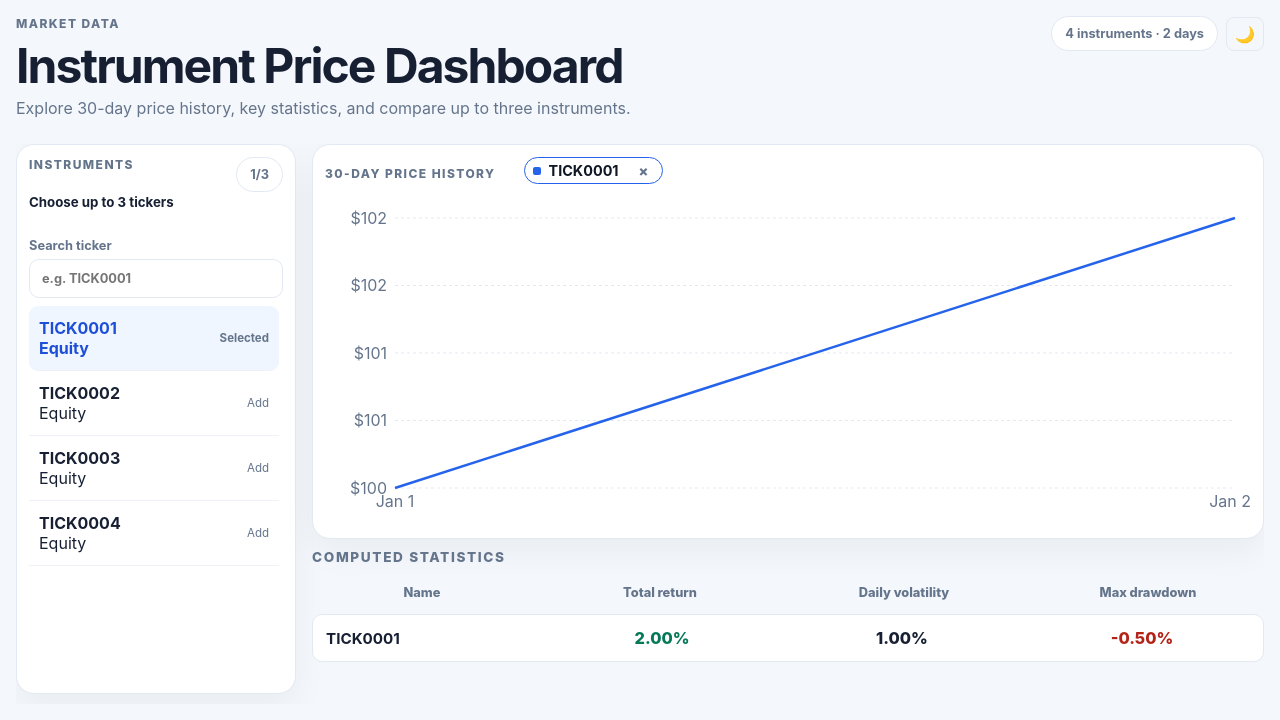
it: App › filters instruments case-insensitively and shows an empty state
The width and height of the screenshot is (1280, 720).
Check: the text "Choose up to 3 tickers" is shown, box [29,194,174,210]
Type "tick0002" into the field named "Search instruments".
click(156, 279); type("tick0002")  # box [29,259,283,298]
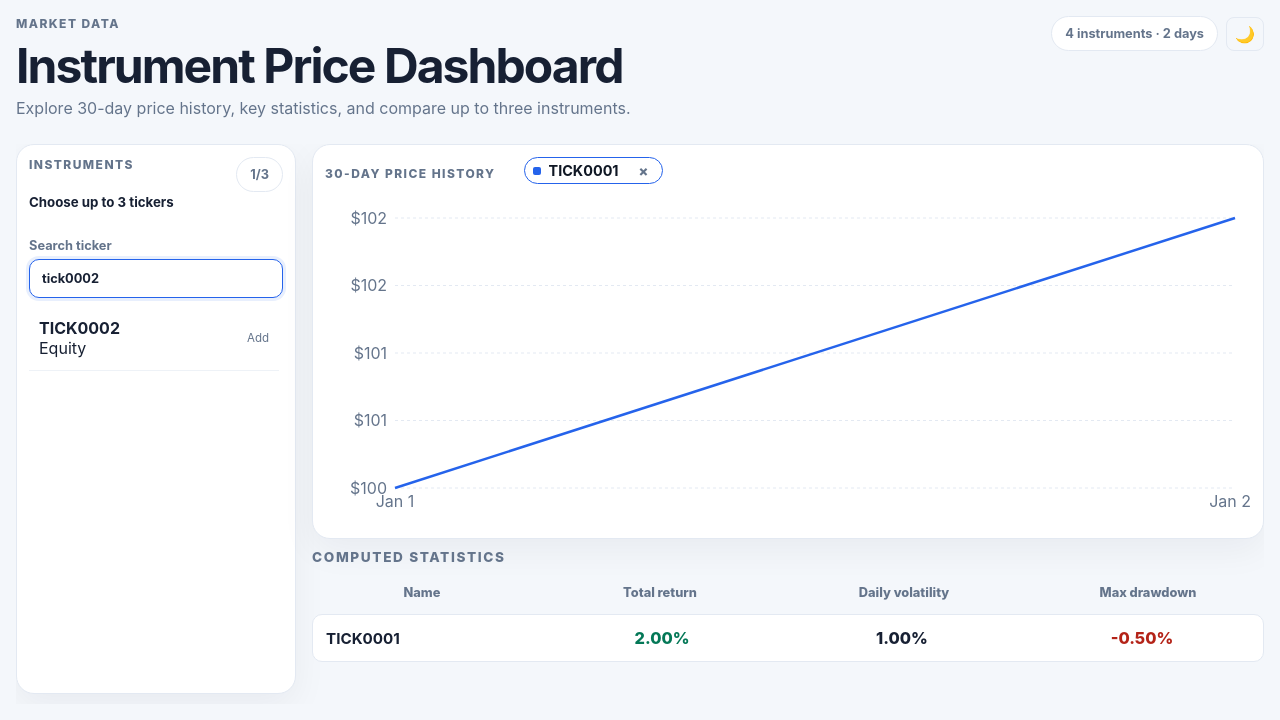
Check: the button "TICK0002 Equity Add" is shown, box [29,306,279,371]
Replace the text in the field named "Search instruments" with "missing" at point(156, 279), box [29,259,283,298]
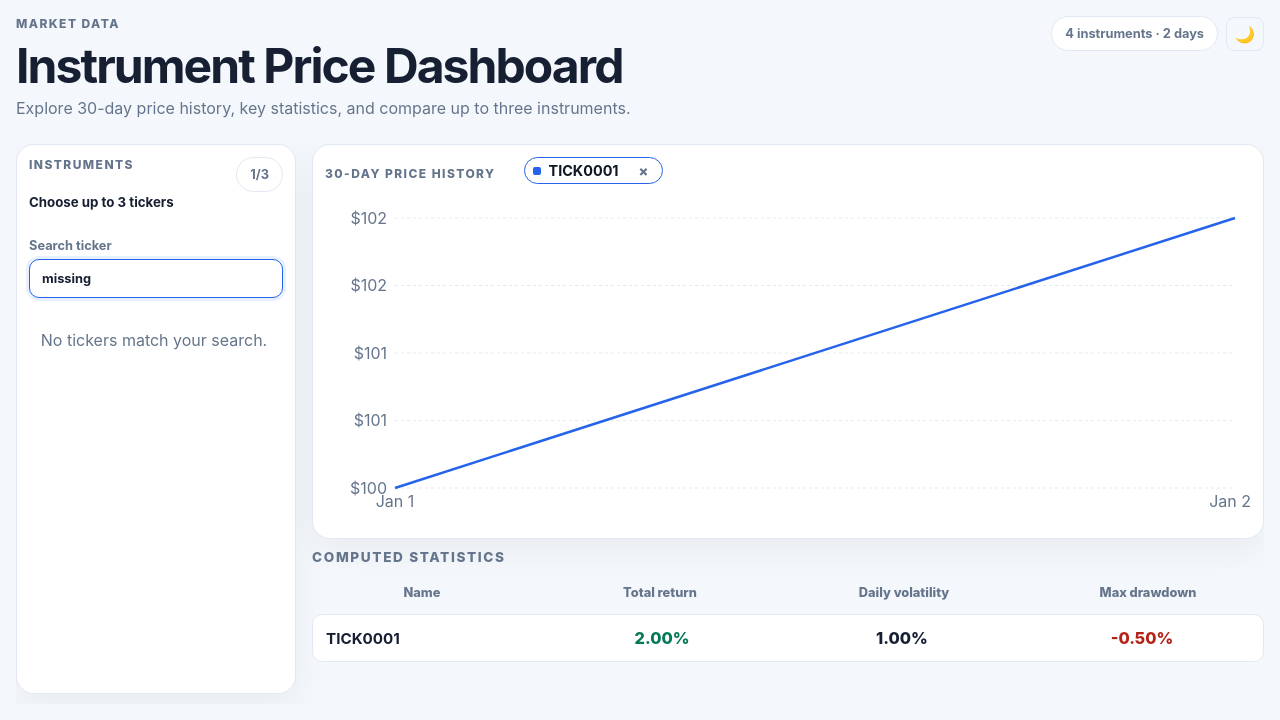
Check: the text "No tickers match your search." is shown, box [41,330,267,350]
